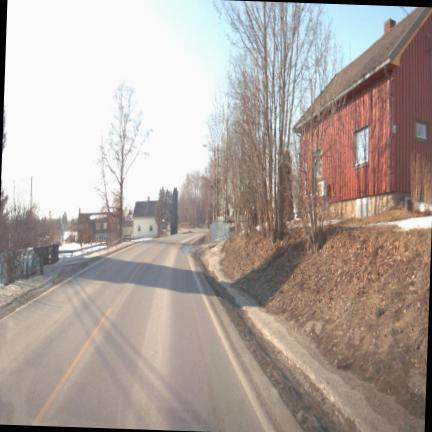Road: (0, 232, 301, 431)
